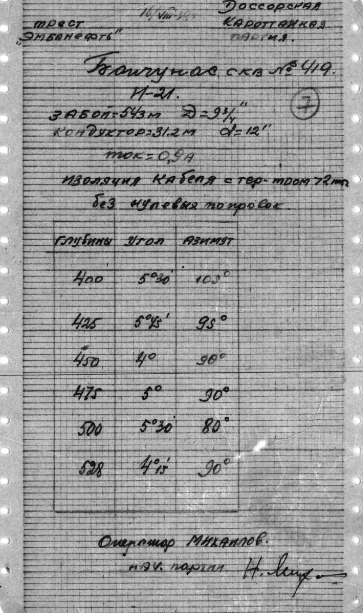Bordered: (52, 221, 242, 514)
